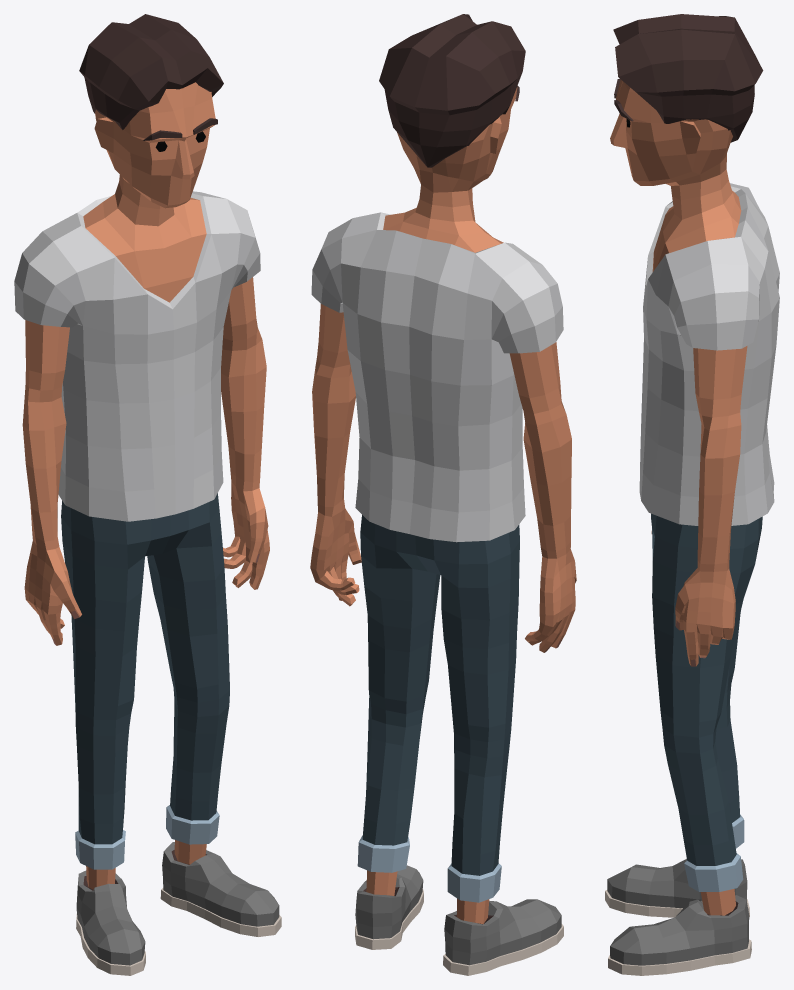
Rendered from Male_01.obj.
3 views of the same model, side by side, from view 1: azimuth 30°, elevation 25°; view 2: azimuth 150°, elevation 25°; view 3: azimuth 270°, elevation 25° (orthographic).
Visible parts, largest first — view 1: Body_05_Cube.007; view 2: Body_05_Cube.007; view 3: Body_05_Cube.007.
Part boxes in pixels (x1,y1,x2,y2): Body_05_Cube.007: (14,14,281,975); Body_05_Cube.007: (310,14,576,975); Body_05_Cube.007: (605,14,779,975).
Bounding box in the file's own units: 0.5826 × 2.06 × 0.3582.
